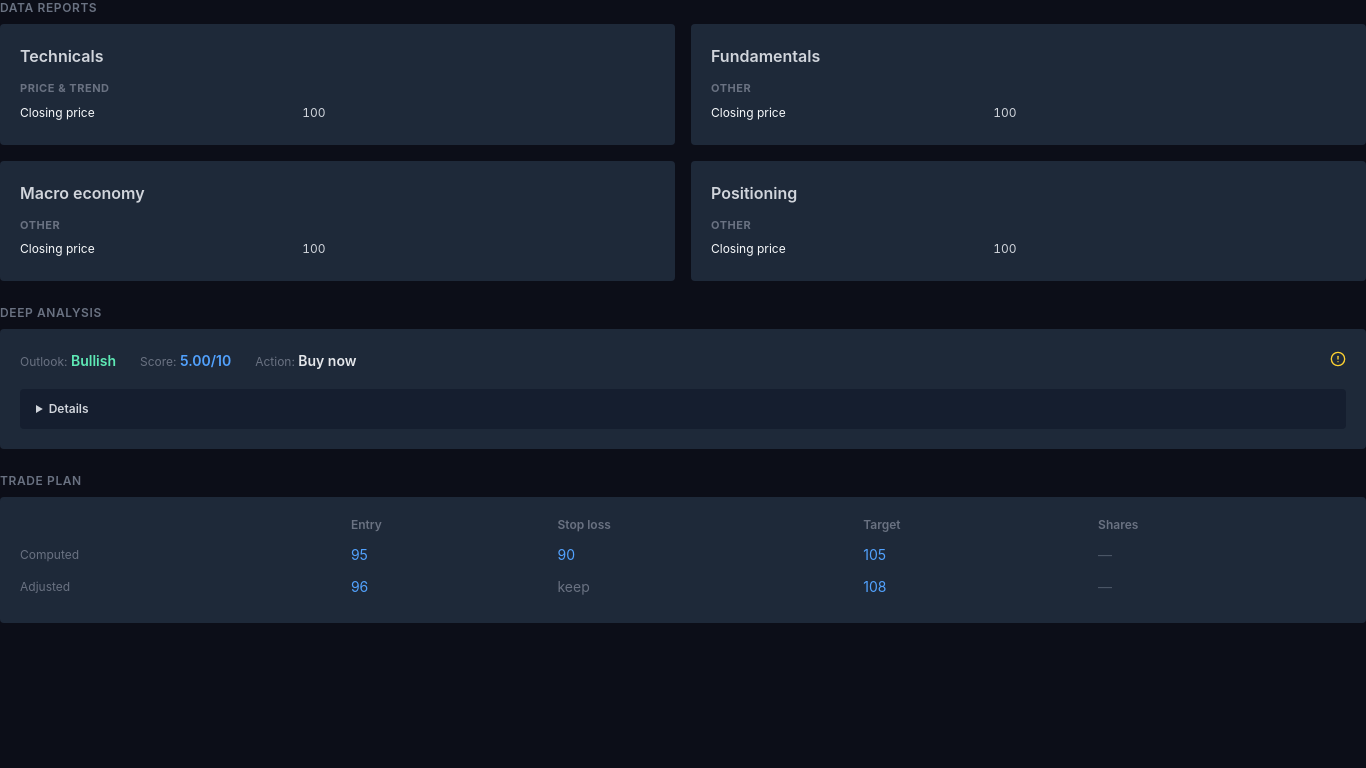
AltResult › tucks data notes behind an exclamation mark that opens a plain-English modal
Expected: the text "summary" is not shown
Click the button with test id "alt-notes-button" at (1338, 359), box [1330,351,1346,367]
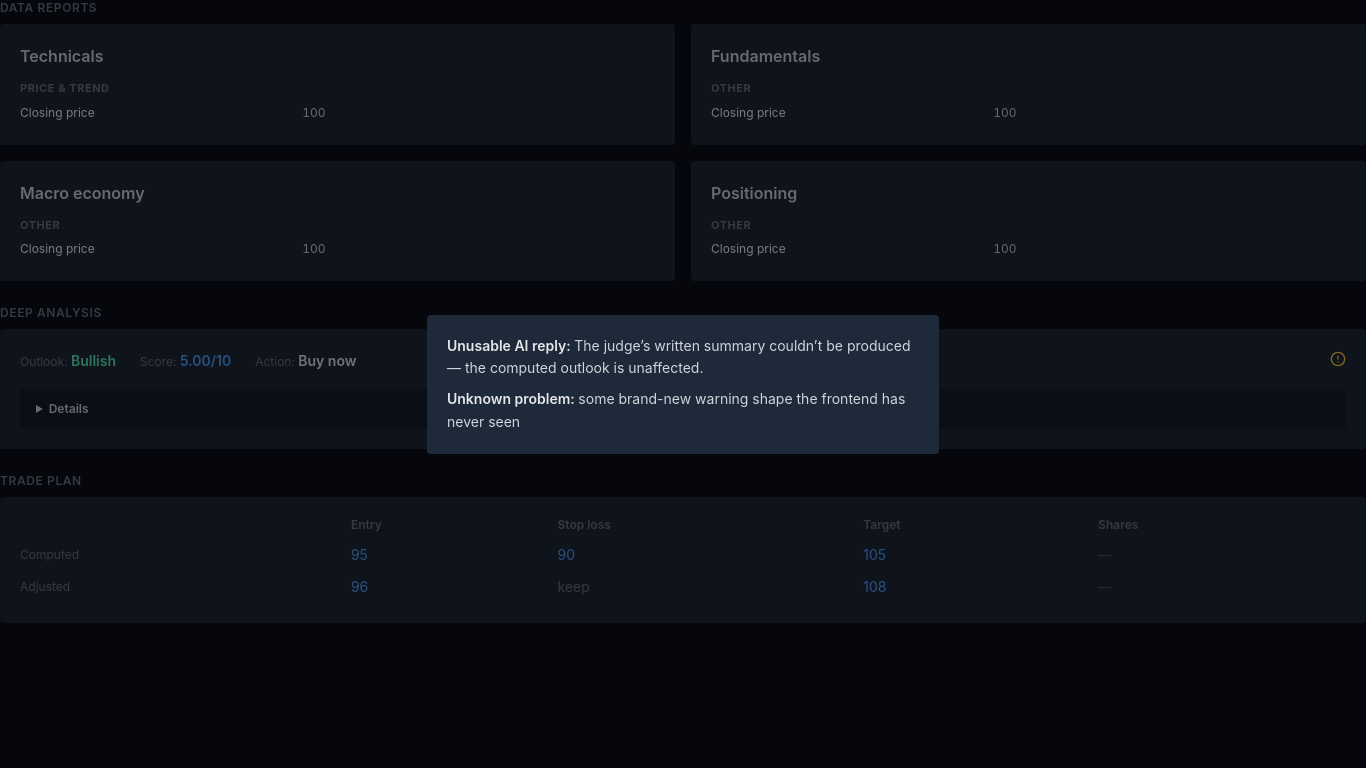
Now the text "Unusable AI reply:" is shown, box [447,336,574,354]
Now the list item "some brand-new warning shape the frontend has never seen" is shown, box [447,390,905,430]
